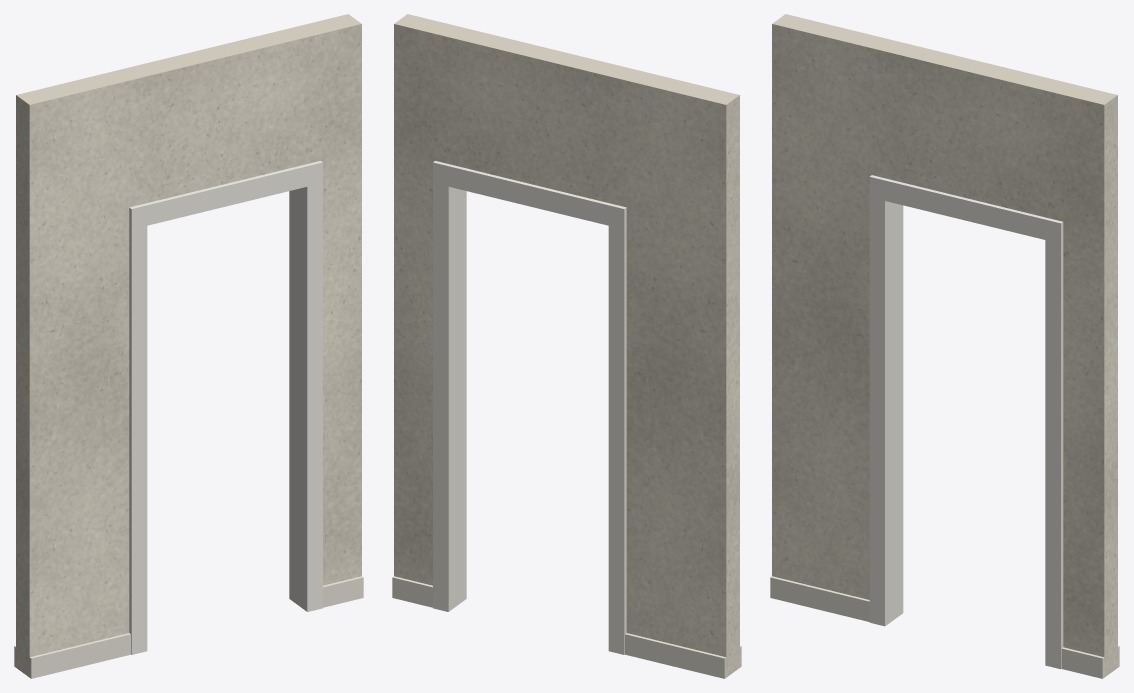
File: interior_wall_end_doorway.glb
3 renders of one model, left to right at view 1: azimuth 30°, elevation 25°; view 2: azimuth 150°, elevation 25°; view 3: azimuth 330°, elevation 25°, orthographic.
Visible parts, largest first — view 1: interior_wall_end_doorway_plaster, interior_wall_end_doorway_frame, interior_wall_end_doorway_trim; view 2: interior_wall_end_doorway_plaster, interior_wall_end_doorway_frame, interior_wall_end_doorway_trim; view 3: interior_wall_end_doorway_plaster, interior_wall_end_doorway_frame, interior_wall_end_doorway_trim.
Part boxes in pixels (x1,y1,x2,y2): interior_wall_end_doorway_plaster: [16, 14, 361, 677]; interior_wall_end_doorway_frame: [129, 161, 322, 654]; interior_wall_end_doorway_trim: [14, 576, 363, 678]; interior_wall_end_doorway_plaster: [394, 14, 739, 677]; interior_wall_end_doorway_frame: [433, 161, 626, 654]; interior_wall_end_doorway_trim: [392, 576, 741, 678]; interior_wall_end_doorway_plaster: [772, 14, 1117, 677]; interior_wall_end_doorway_frame: [869, 175, 1063, 669]; interior_wall_end_doorway_trim: [770, 576, 1119, 678].
Size of the model in its own units: 1.7 by 2.8 by 0.16.
Materials: 3 (1 with a texture image).
